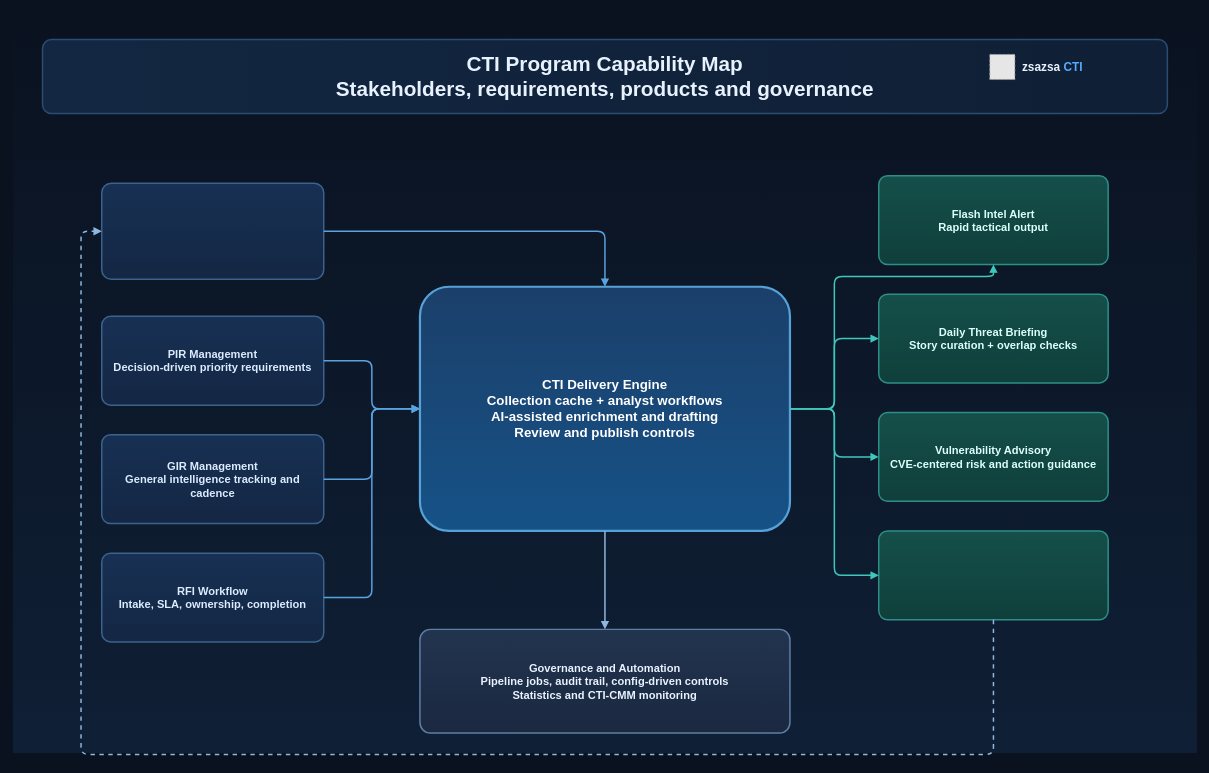
Some shapes in this 1209 by 773 pixel diagram are drawn without their labels. Grey dashed boxes stand in for pictures. Here are the shapes that lost their labels. From the top down, the centre of each, then its label:
At (212,231): "Stakeholder Management Profiles, roles, subscriptions, TLP clearance".
At (993,575): "Feedback Collection Per-product feedback and metrics".
